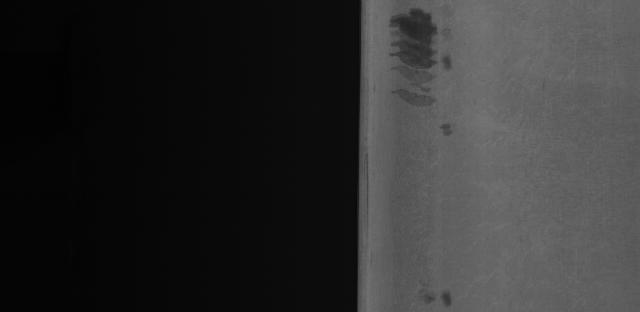oil_spot: (387, 7, 454, 139), (414, 279, 458, 310)
